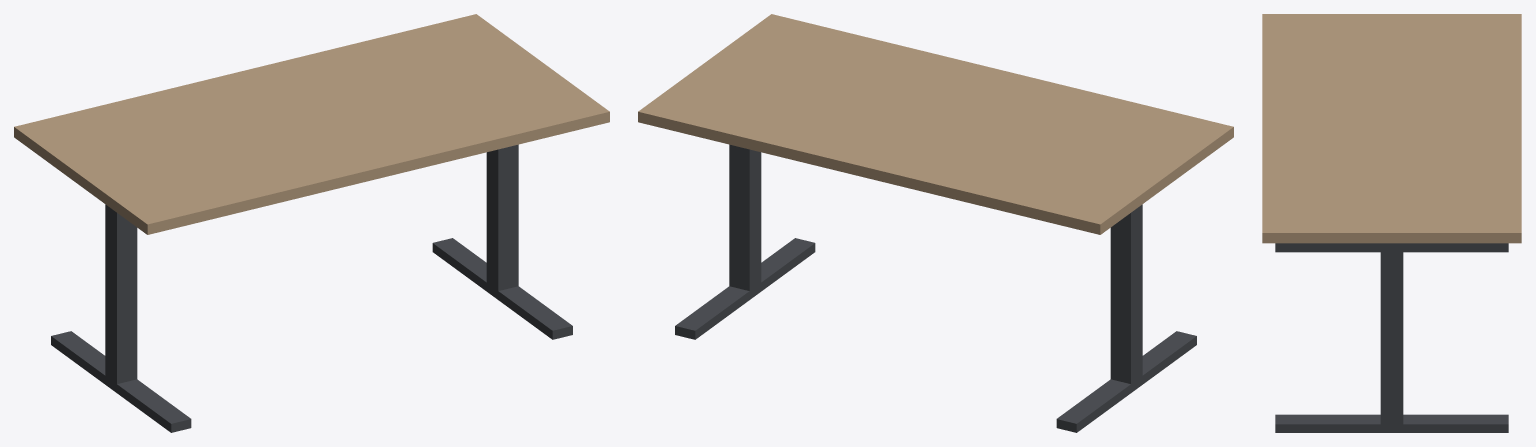
Rendered from desk.glb.
3 renders of one model, left to right at view 1: azimuth 30°, elevation 25°; view 2: azimuth 150°, elevation 25°; view 3: azimuth 270°, elevation 25°, orthographic. The views are drawn at different scales.
Parts seen in each view (by area): view 1: desk; view 2: desk; view 3: desk.
Part boxes in pixels (x1,y1,x2,y2): desk: (14,14,609,432); desk: (638,14,1233,432); desk: (1262,14,1521,432).
Size of the model in its own units: 1.6 by 0.73 by 0.8.
